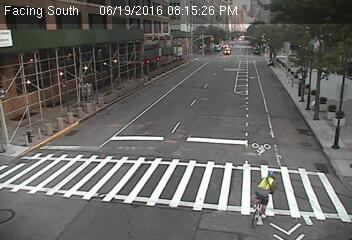neg: (241, 164, 290, 230)
